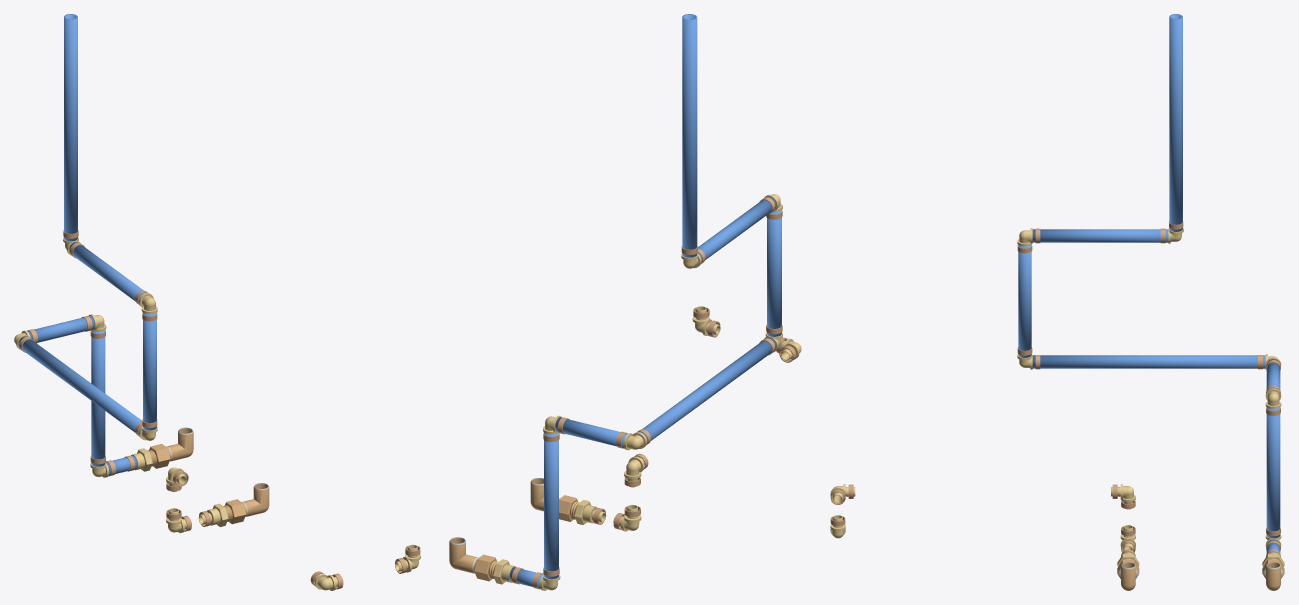
Rendered from slab_pipes_supply__softener-yes_and_plumbing-pex+attic_repipe+pex_branch.glb.
3 renders of one model, left to right at view 1: azimuth 30°, elevation 25°; view 2: azimuth 150°, elevation 25°; view 3: azimuth 270°, elevation 25°, orthographic. The views are drawn at different scales.
Visible parts, largest first — view 1: pipe_supply_from_softener__pex, fit_adapter_pipe_supply_softener_feed__pex, fit_adapter_pipe_supply_from_softener__pex; view 2: pipe_supply_from_softener__pex, fit_adapter_pipe_supply_from_softener__pex, fit_adapter_pipe_supply_softener_feed__pex, fit_pexelbow_pipe_supply_softener_feed__pex_0, fit_pexelbow_pipe_supply_softener_feed__pex_3, fit_pexelbow_pipe_supply_softener_feed__pex_2, fit_pexelbow_pipe_supply_from_softener__pex_2; view 3: pipe_supply_from_softener__pex, fit_adapter_pipe_supply_softener_feed__pex, fit_adapter_pipe_supply_from_softener__pex.
Part boxes in pixels (left/top/right/bottom): pipe_supply_from_softener__pex: left=18, top=14, right=156, bottom=475; fit_adapter_pipe_supply_softener_feed__pex: left=198, top=483, right=269, bottom=526; fit_adapter_pipe_supply_from_softener__pex: left=124, top=427, right=193, bottom=471; pipe_supply_from_softener__pex: left=509, top=14, right=781, bottom=588; fit_adapter_pipe_supply_from_softener__pex: left=449, top=537, right=523, bottom=584; fit_adapter_pipe_supply_softener_feed__pex: left=530, top=478, right=606, bottom=524; fit_pexelbow_pipe_supply_softener_feed__pex_0: left=692, top=306, right=720, bottom=337; fit_pexelbow_pipe_supply_softener_feed__pex_3: left=613, top=505, right=641, bottom=531; fit_pexelbow_pipe_supply_softener_feed__pex_2: left=624, top=453, right=648, bottom=487; fit_pexelbow_pipe_supply_from_softener__pex_2: left=616, top=429, right=650, bottom=450; pipe_supply_from_softener__pex: left=1018, top=14, right=1280, bottom=553; fit_adapter_pipe_supply_softener_feed__pex: left=1117, top=549, right=1139, bottom=590; fit_adapter_pipe_supply_from_softener__pex: left=1262, top=549, right=1284, bottom=590.
Size of the model in its own units: 0.3284 by 0.9086 by 0.7511.
